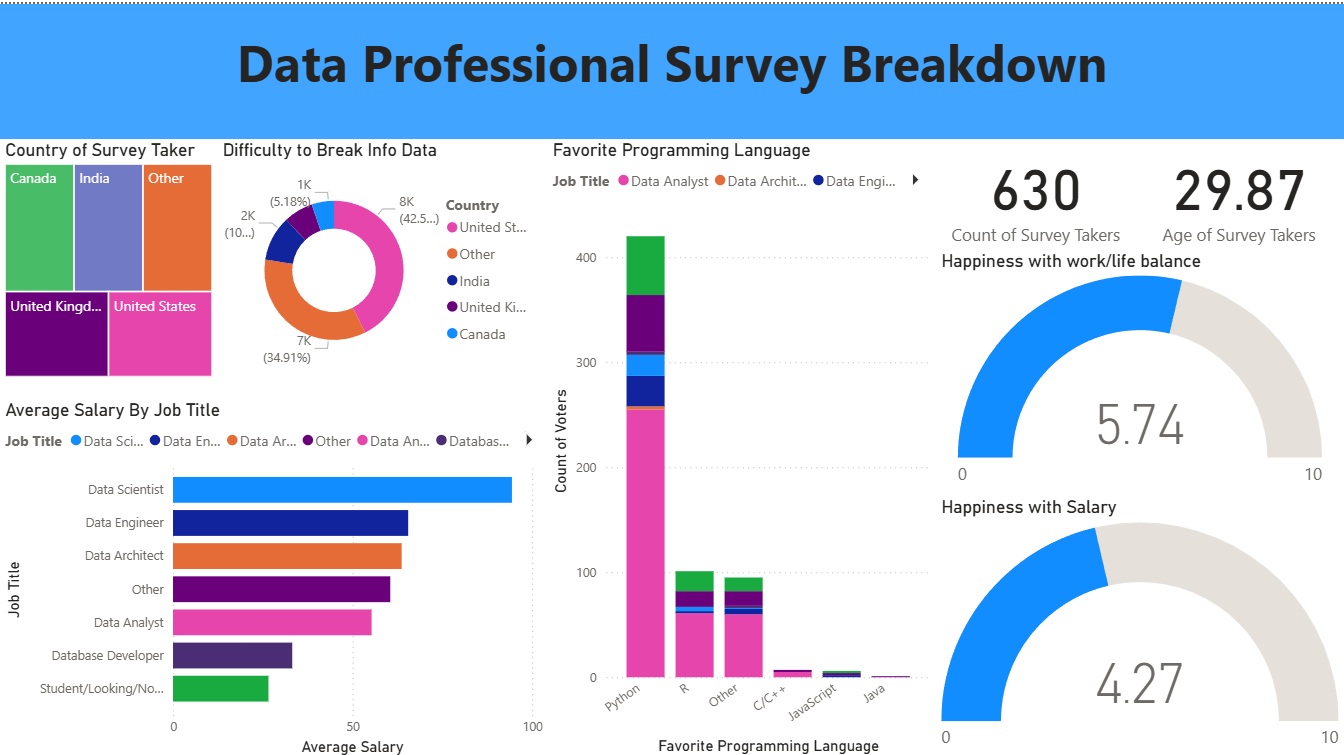

What the dashboard file says about the page in this screenshot:
{"tool":"powerbi","page":{"name":"Page 1","canvas":[1280,720],"ordinal":0},"visuals":[{"type":"textbox","box":[0,0,1280.3,129],"z":0},{"type":"card","fields":{"Values":["Count(Data Professional Survey.Unique ID)"]},"box":[891.4,128.6,190,105.7],"z":1},{"type":"card","fields":{"Values":["Avg(Data Professional Survey.Q10 - Current Age)"]},"box":[1081.4,128.6,198.6,105.7],"z":2},{"type":"barChart","title":"Average Salary By Job Title","fields":{"Category":["Data Professional Survey.Q1 - Which Title Best Fits your Current Role?.1"],"Y":["Avg(Data Professional Survey.Average Salary)"],"Series":["Data Professional Survey.Q1 - Which Title Best Fits your Current Role?.1"]},"box":[0,375.7,521.4,344.3],"z":3},{"type":"columnChart","title":"Favorite Programming Language","fields":{"Category":["Data Professional Survey.Q5 - Favorite Programming Language.1"],"Y":["CountNonNull(Data Professional Survey.Unique ID)"],"Series":["Data Professional Survey.Q1 - Which Title Best Fits your Current Role?.1"]},"box":[521.4,128.6,370,591.4],"z":4},{"type":"treemap","title":"Country of Survey Taker","fields":{"Group":["Data Professional Survey.Q11 - Which Country do you live in?.1"],"Values":["Count(Data Professional Survey.Q11 - Which Country do you live in?.1)"]},"box":[0,128.6,207.1,231.4],"z":5},{"type":"gauge","title":"Happiness with work/life balance","fields":{"Y":["Avg(Data Professional Survey.Q6 - How Happy are you in your Current Position with the following? (Work/Life Balance))"],"MinValue":["Min(Data Professional Survey.Q6 - How Happy are you in your Current Position with the following? (Work/Life Balance))"],"MaxValue":["Max(Data Professional Survey.Q6 - How Happy are you in your Current Position with the following? (Work/Life Balance))1"]},"box":[891.4,234.3,388.6,234.3],"z":6},{"type":"gauge","title":"Happiness with Salary","fields":{"Y":["Avg(Data Professional Survey.Q6 - How Happy are you in your Current Position with the following? (Salary))"],"MinValue":["Min(Data Professional Survey.Q6 - How Happy are you in your Current Position with the following? (Salary))"],"MaxValue":["Max(Data Professional Survey.Q6 - How Happy are you in your Current Position with the following? (Salary))"]},"box":[891.4,468.6,388.6,251.4],"z":7},{"type":"donutChart","title":"Difficulty to Break Info Data","fields":{"Category":["Data Professional Survey.Q11 - Which Country do you live in?.1"],"Y":["Sum(Data Professional Survey.Q10 - Current Age)"]},"box":[207.1,128.6,314.3,231.4],"z":8}]}

Visuals, with their boxes in screenshot pixels (x1, y1, x2, y2), scaled from the page's 1280x720 canvas onto the 1344x755 screenshot:
textbox: x1=0 y1=0 x2=1343 y2=135
card - Count(Data Professional Survey.Unique ID): x1=936 y1=135 x2=1135 y2=246
card - Avg(Data Professional Survey.Q10 - Current Age): x1=1135 y1=135 x2=1343 y2=246
"Average Salary By Job Title" barChart: x1=0 y1=394 x2=547 y2=754
"Favorite Programming Language" columnChart: x1=547 y1=135 x2=936 y2=754
"Country of Survey Taker" treemap: x1=0 y1=135 x2=217 y2=378
"Happiness with work/life balance" gauge: x1=936 y1=246 x2=1343 y2=491
"Happiness with Salary" gauge: x1=936 y1=491 x2=1343 y2=754
"Difficulty to Break Info Data" donutChart: x1=217 y1=135 x2=547 y2=378
